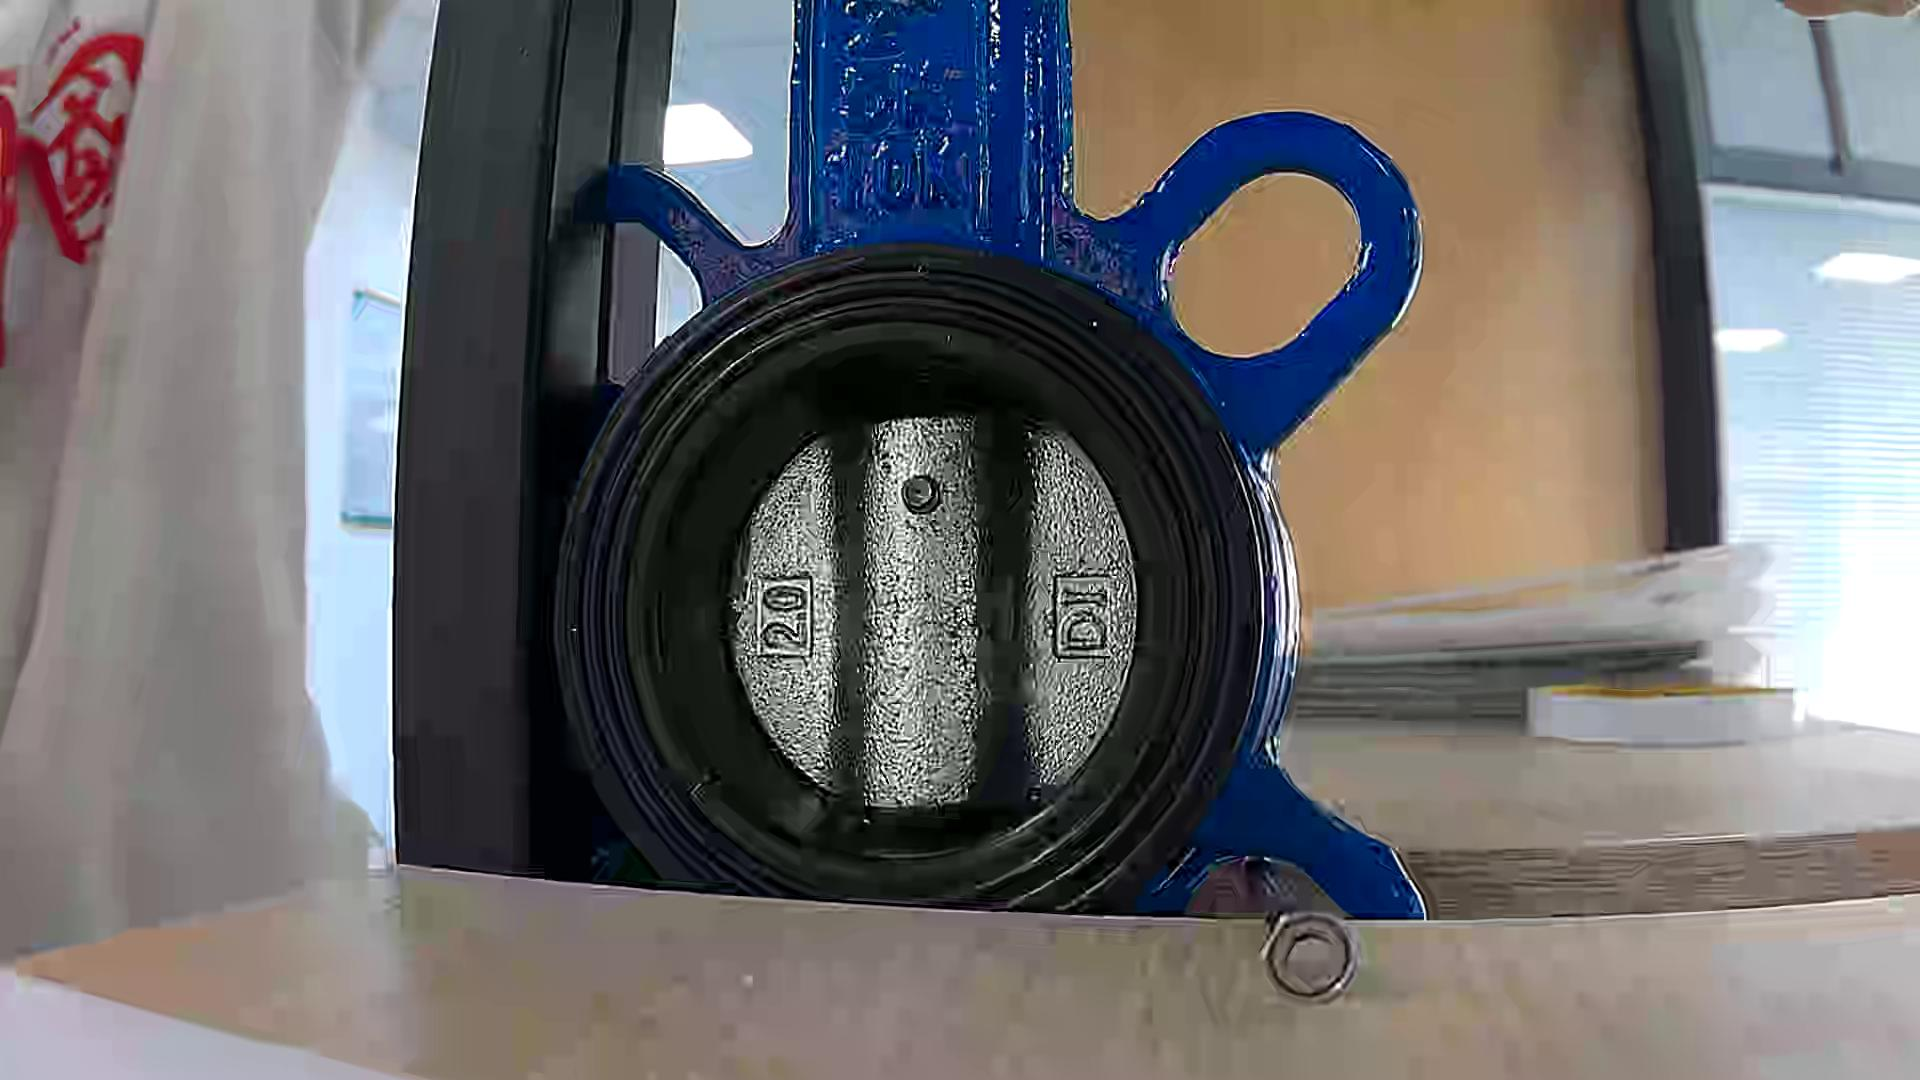valve: (725, 413, 1137, 808)
